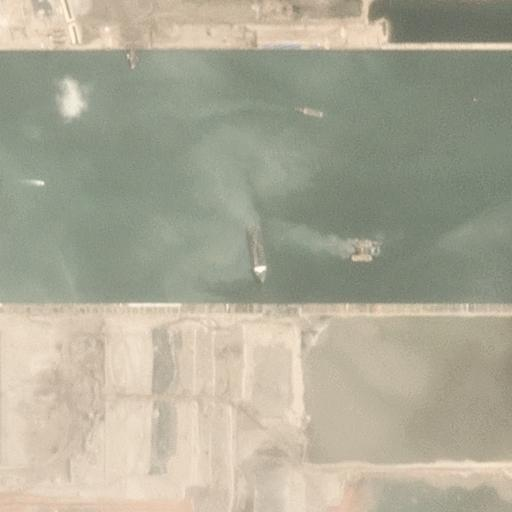ship: (246, 226, 266, 286), (294, 105, 324, 117), (38, 181, 46, 186)
